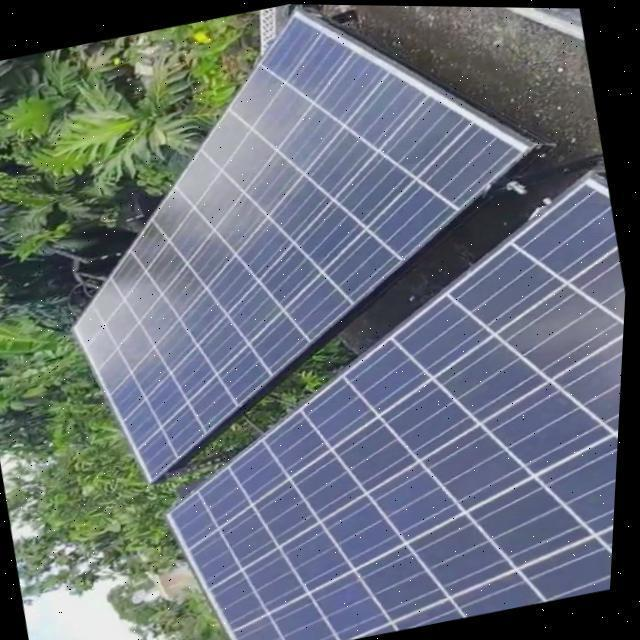Normal Solar Panel: (13, 0, 602, 499), (112, 161, 634, 640)
